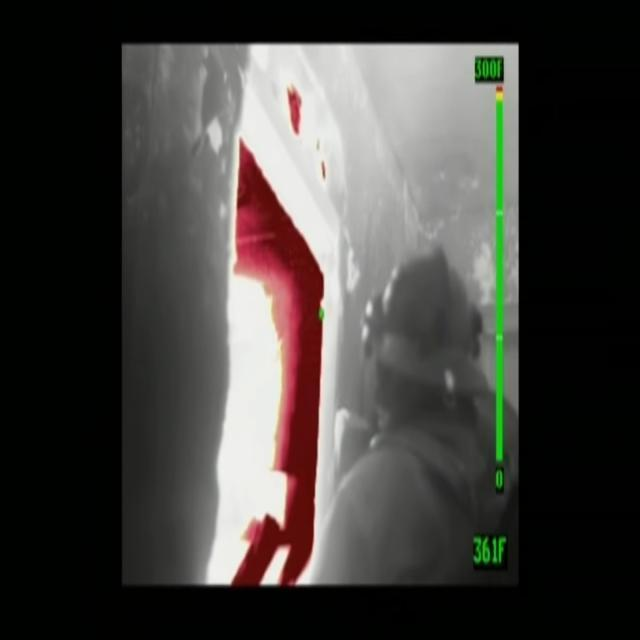fire: (234, 132, 327, 594)
